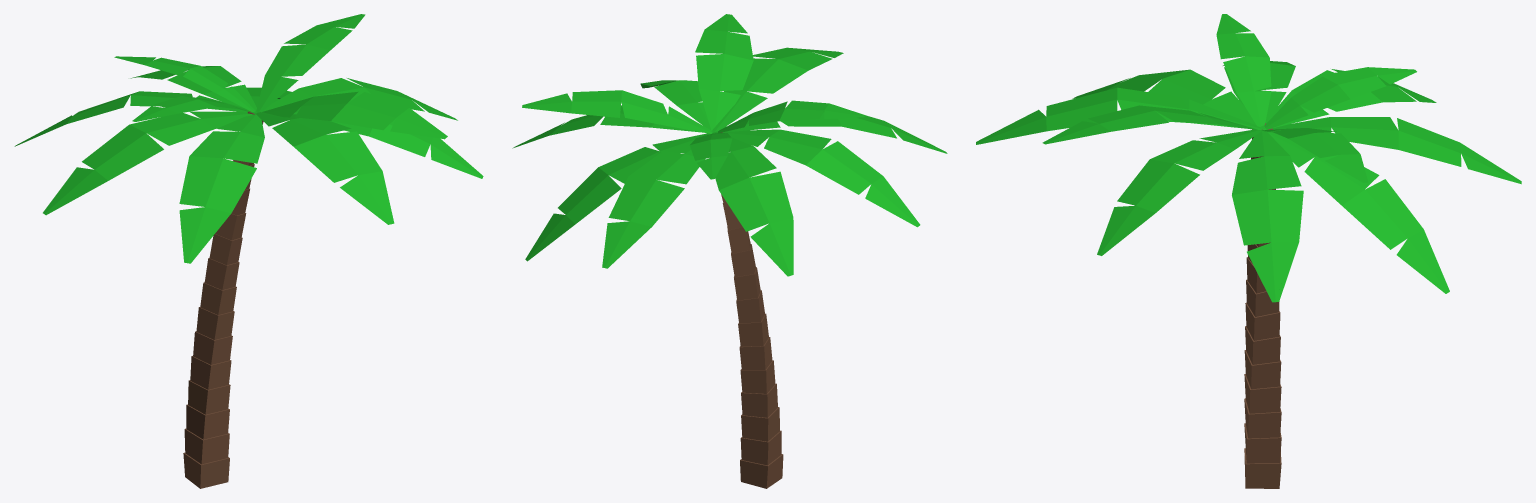
Rendered from Palmtree.fbx.
3 views of the same model, side by side, from view 1: azimuth 30°, elevation 25°; view 2: azimuth 150°, elevation 25°; view 3: azimuth 270°, elevation 25° (orthographic). The views are drawn at different scales.
Visible parts, largest first — view 1: Stammsegment; view 2: Stammsegment; view 3: Stammsegment.
Part boxes in pixels (x1=…): Stammsegment: x1=14, y1=14, x2=483, y2=488; Stammsegment: x1=512, y1=14, x2=947, y2=488; Stammsegment: x1=976, y1=14, x2=1521, y2=488.
Size of the model in its own units: 13.87 by 12.42 by 14.59.
